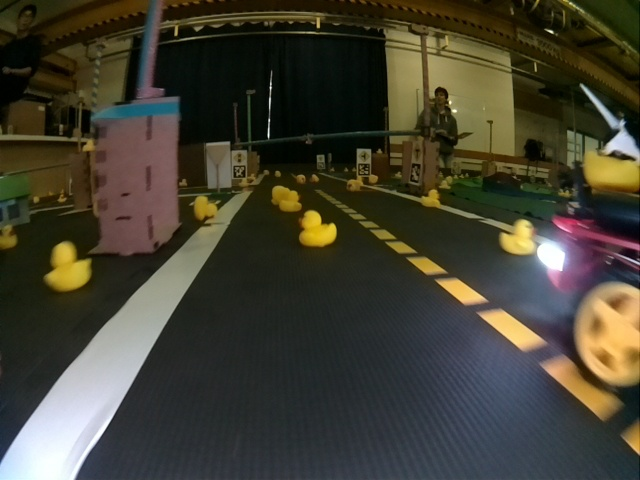Duckie: (44, 241, 90, 291), (298, 211, 336, 245), (501, 219, 536, 252), (194, 196, 217, 220), (281, 192, 301, 210), (421, 190, 440, 207), (4, 225, 18, 247), (271, 186, 287, 203), (347, 180, 361, 190), (310, 174, 319, 183), (178, 179, 186, 187), (297, 175, 304, 184), (59, 195, 67, 202)
Duckiebot: (538, 192, 639, 394)
Intersection sign: (413, 143, 422, 160), (358, 150, 368, 161)
QR code: (409, 164, 422, 183), (358, 163, 370, 176), (234, 166, 243, 178)
Signal sign: (233, 151, 246, 164)
